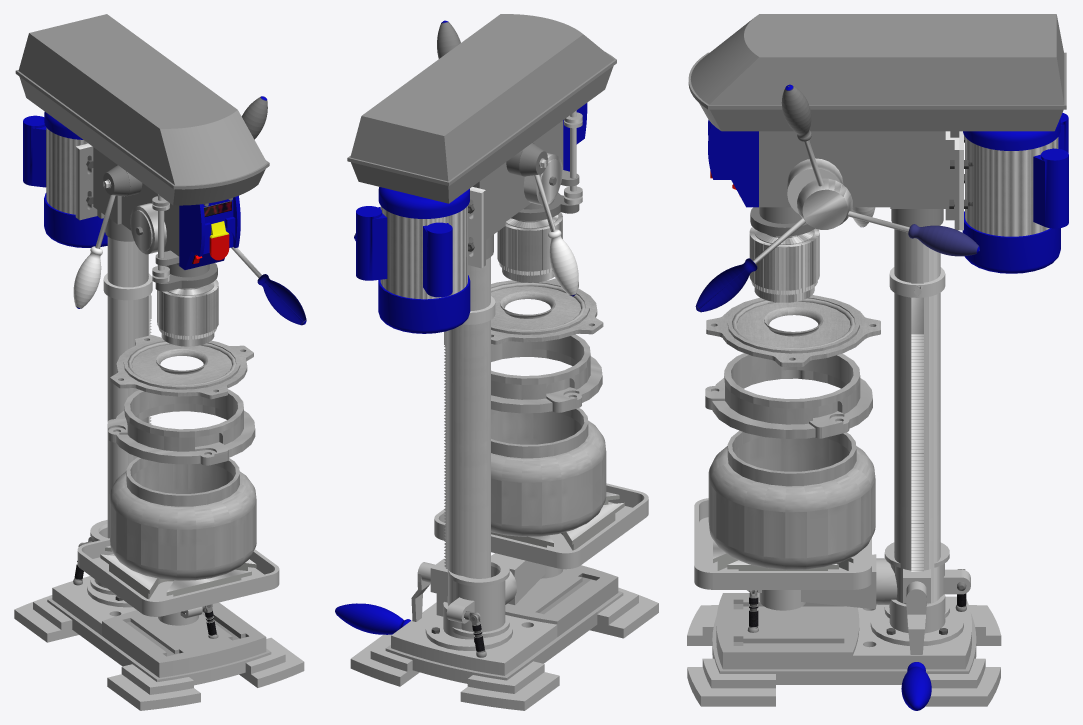
The picture shows the model from 3 angles, left to right: view 1: azimuth 30°, elevation 25°; view 2: azimuth 150°, elevation 25°; view 3: azimuth 270°, elevation 25°; orthographic projection. The views are drawn at different scales.
Parts seen in each view (by area): view 1: 01, 1.002, 04, 1.001, 1, 03, 02.001; view 2: 01, 04, 1.002, 1.001, 1, 03, 02.001; view 3: 01, 1.002, 04, 1.001, 1, 02.001, 03.
Part boxes in pixels (left/top/right/bottom): 01: left=14, top=14, right=304, bottom=710; 1.002: left=109, top=457, right=256, bottom=580; 04: left=73, top=520, right=279, bottom=638; 1.001: left=107, top=389, right=255, bottom=465; 1: left=110, top=335, right=253, bottom=399; 03: left=157, top=279, right=218, bottom=346; 02.001: left=231, top=96, right=306, bottom=325; 01: left=347, top=14, right=658, bottom=710; 04: left=335, top=483, right=648, bottom=657; 1.002: left=491, top=408, right=606, bottom=536; 1.001: left=491, top=334, right=602, bottom=413; 1: left=491, top=278, right=603, bottom=344; 03: left=497, top=212, right=562, bottom=282; 02.001: left=354, top=20, right=460, bottom=240; 01: left=687, top=14, right=1068, bottom=706; 1.002: left=708, top=430, right=875, bottom=570; 04: left=694, top=498, right=970, bottom=710; 1.001: left=705, top=353, right=872, bottom=438; 1: left=706, top=294, right=880, bottom=366; 02.001: left=695, top=84, right=979, bottom=312; 03: left=749, top=226, right=819, bottom=302.
Bounding box in the file's own units: 485 × 1225 × 676.
38 materials, 11 textured.
